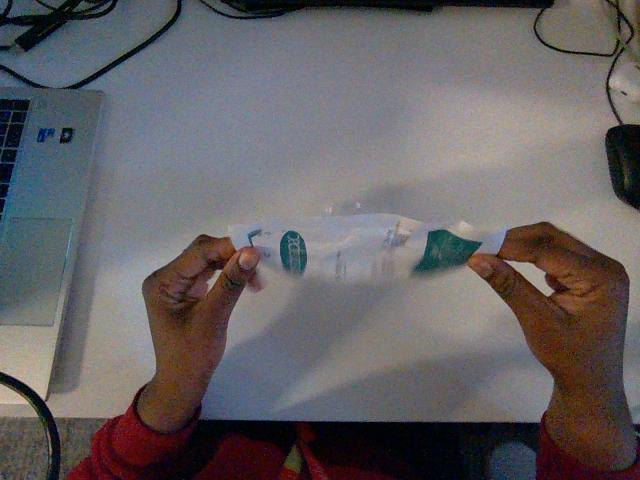gallipot: (229, 214, 505, 281)
